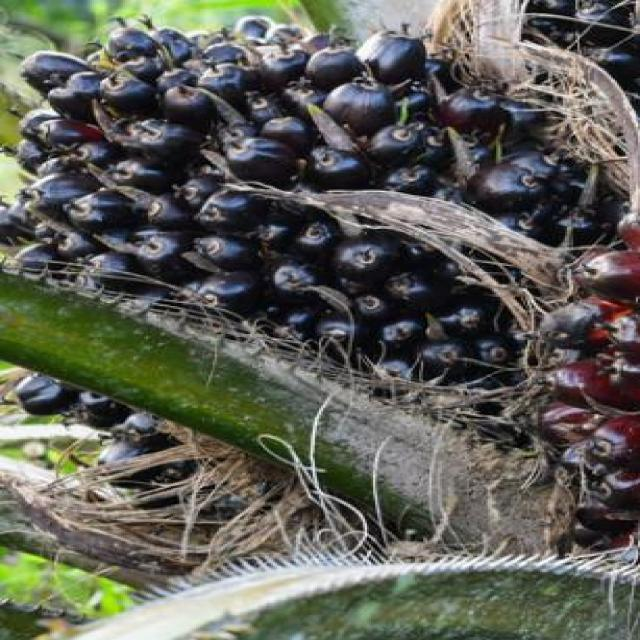Unripe: (0, 15, 613, 489)
